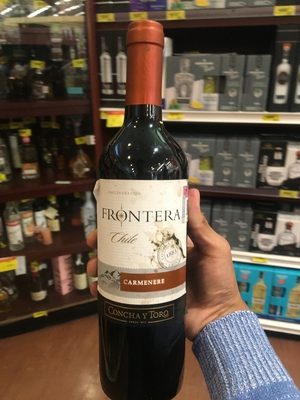frontera carmenere: (91, 28, 220, 400)
